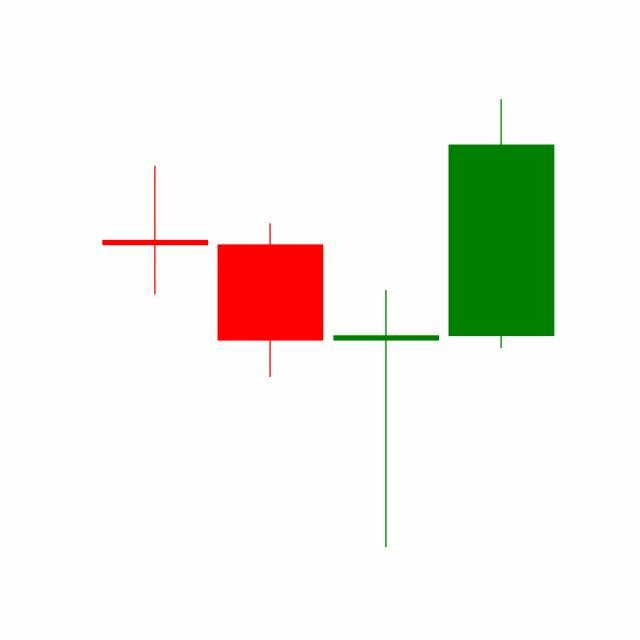Spinning Top: (329, 288, 445, 551)
